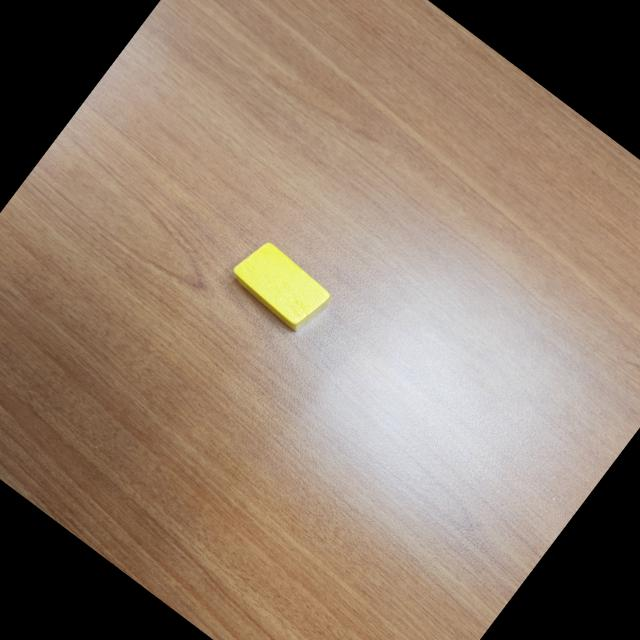yellow: (222, 234, 338, 342)
